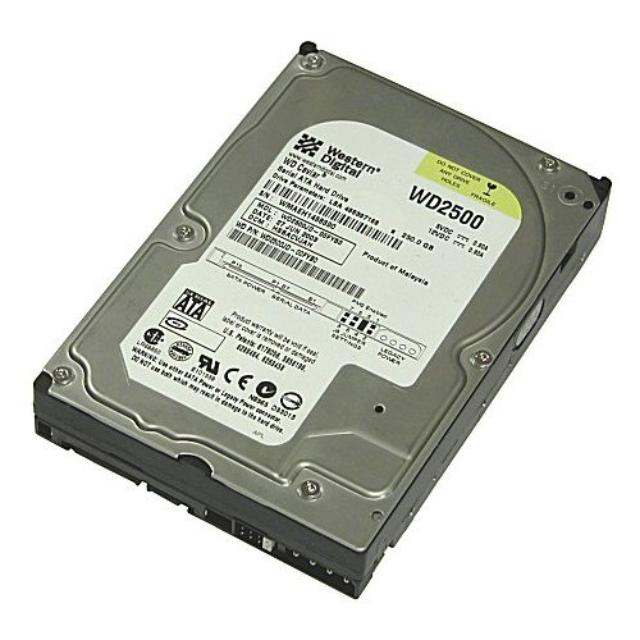HDD: (32, 41, 612, 600)
